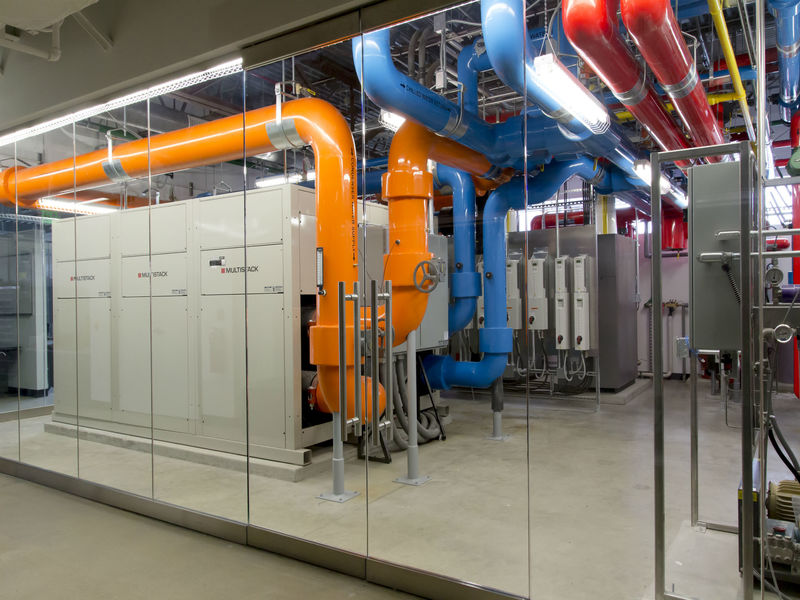valve: (292, 83, 315, 94)
